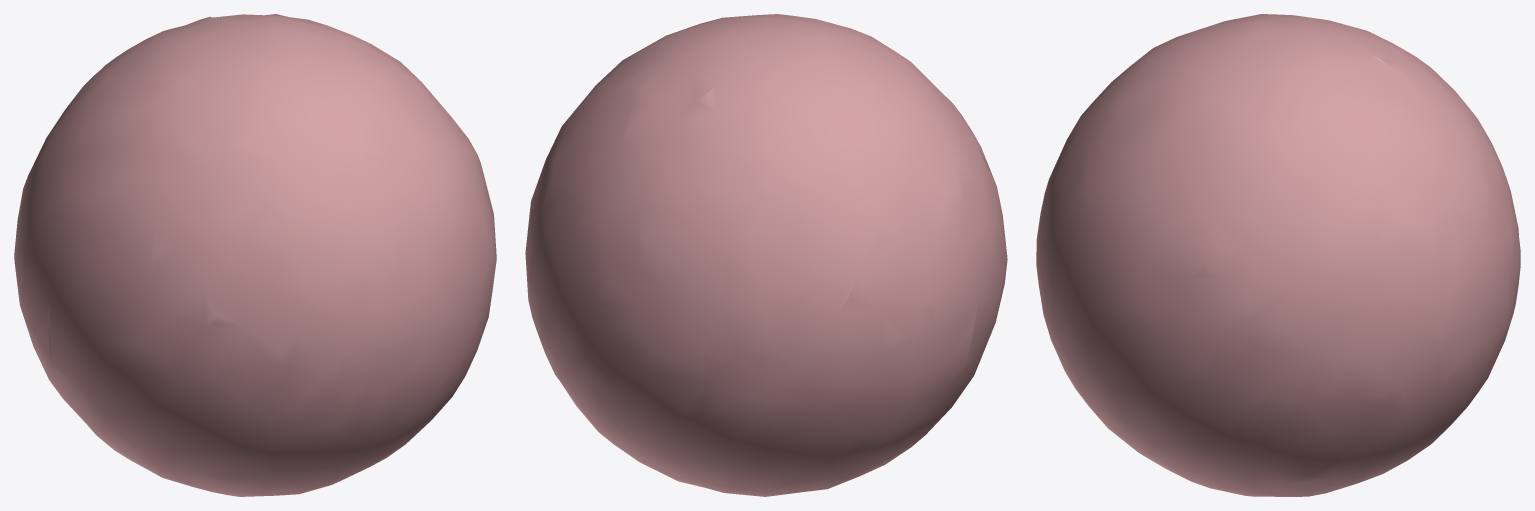
File: fma276281_mm2153m.glb
3 views of the same model, side by side, from view 1: azimuth 30°, elevation 25°; view 2: azimuth 150°, elevation 25°; view 3: azimuth 270°, elevation 25° (orthographic).
Parts seen in each view (by area): view 1: FMA276281_MM2153M; view 2: FMA276281_MM2153M; view 3: FMA276281_MM2153M.
Boxes of the visible parts, bbox=[...] form: FMA276281_MM2153M: bbox=[14, 14, 496, 496]; FMA276281_MM2153M: bbox=[525, 14, 1007, 496]; FMA276281_MM2153M: bbox=[1036, 14, 1520, 496].
Bounding box in the file's own units: 0.00297 × 0.00298 × 0.00299.
